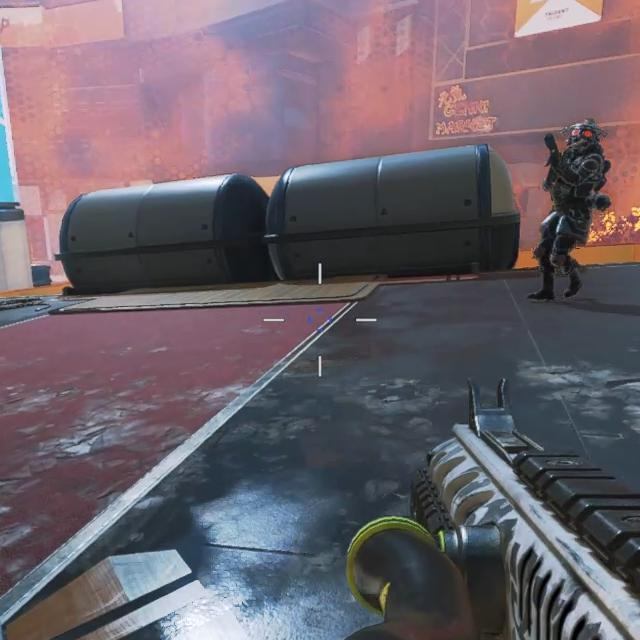avatar: (524, 116, 613, 308)
